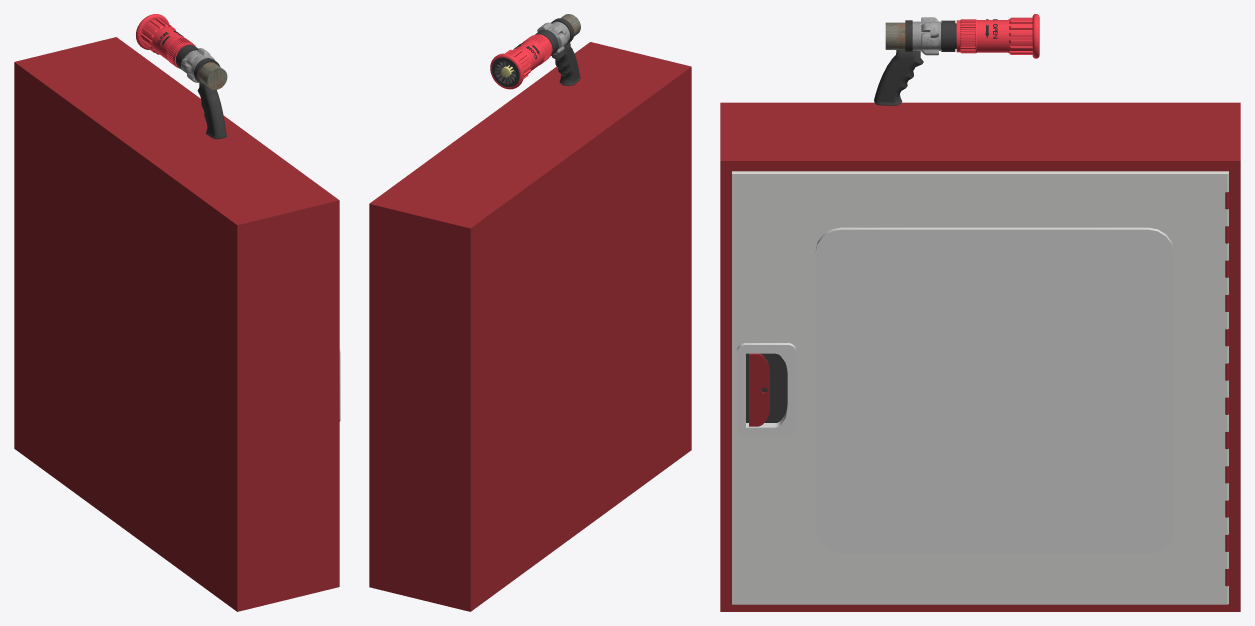
Rendered from CajaMangueraBies.fbx.
3 renders of one model, left to right at view 1: azimuth 30°, elevation 25°; view 2: azimuth 150°, elevation 25°; view 3: azimuth 270°, elevation 25°, orthographic. The views are drawn at different scales.
Parts seen in each view (by area): view 1: Caja, ReguladorLanza, EngancheLanza, Mango; view 2: Caja, ReguladorLanza, EngancheLanza, Mango; view 3: Puerta, Caja, ReguladorLanza, EngancheLanza, Mango, ManillaPuerta.
Boxes of the visible parts, box(x1,y1,x2,y2) form: Caja: box(14, 37, 339, 611); ReguladorLanza: box(136, 14, 195, 68); EngancheLanza: box(176, 45, 227, 89); Mango: box(197, 83, 226, 139); Caja: box(369, 42, 691, 611); ReguladorLanza: box(490, 34, 552, 89); EngancheLanza: box(535, 14, 580, 55); Mango: box(551, 42, 580, 85); Puerta: box(732, 171, 1228, 604); Caja: box(720, 102, 1240, 611); ReguladorLanza: box(956, 14, 1039, 58); EngancheLanza: box(885, 17, 956, 55); Mango: box(874, 49, 923, 105); ManillaPuerta: box(749, 353, 769, 426).
Size of the model in its own units: 19.49 by 81.93 by 68.02.
Materials: 9 (2 with a texture image).
